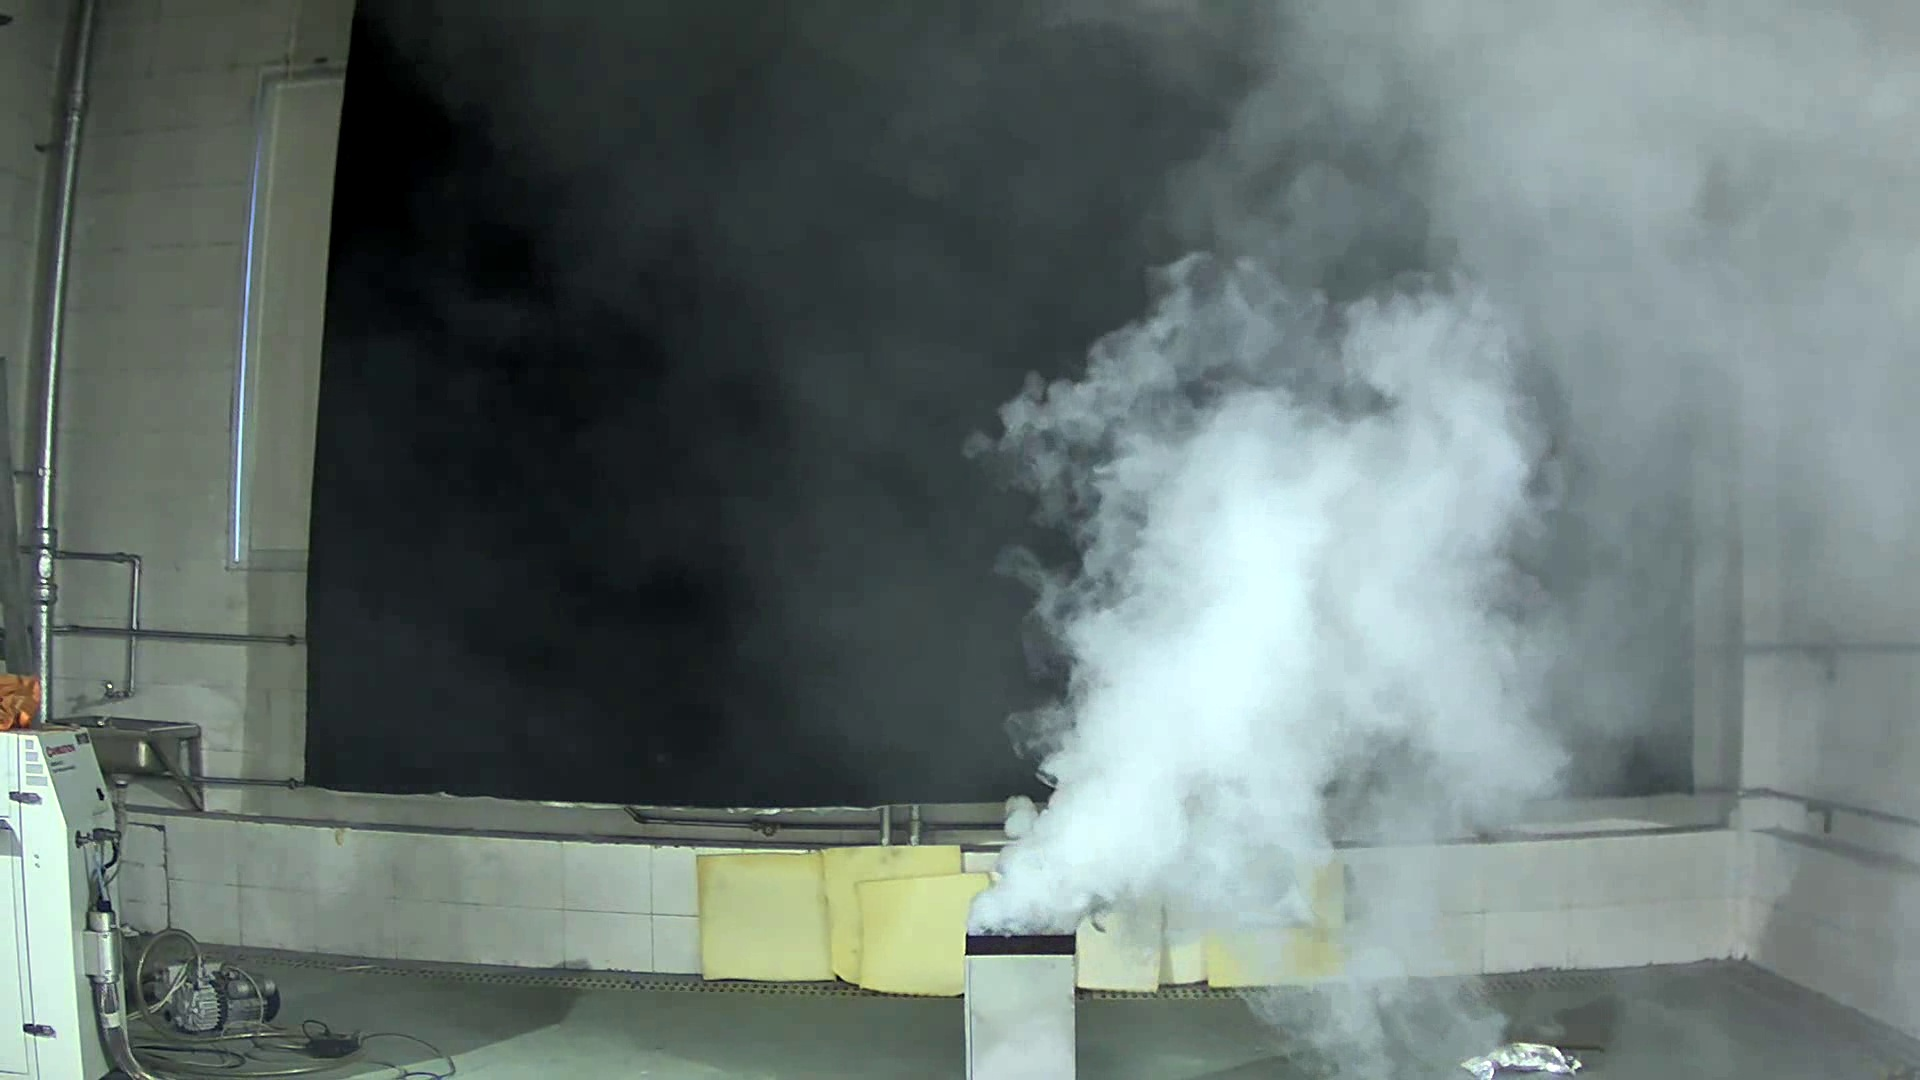smoke: (969, 247, 1578, 947)
